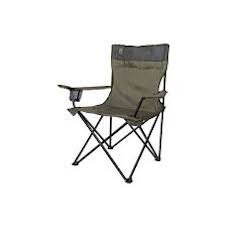chair: (45, 18, 212, 216)
